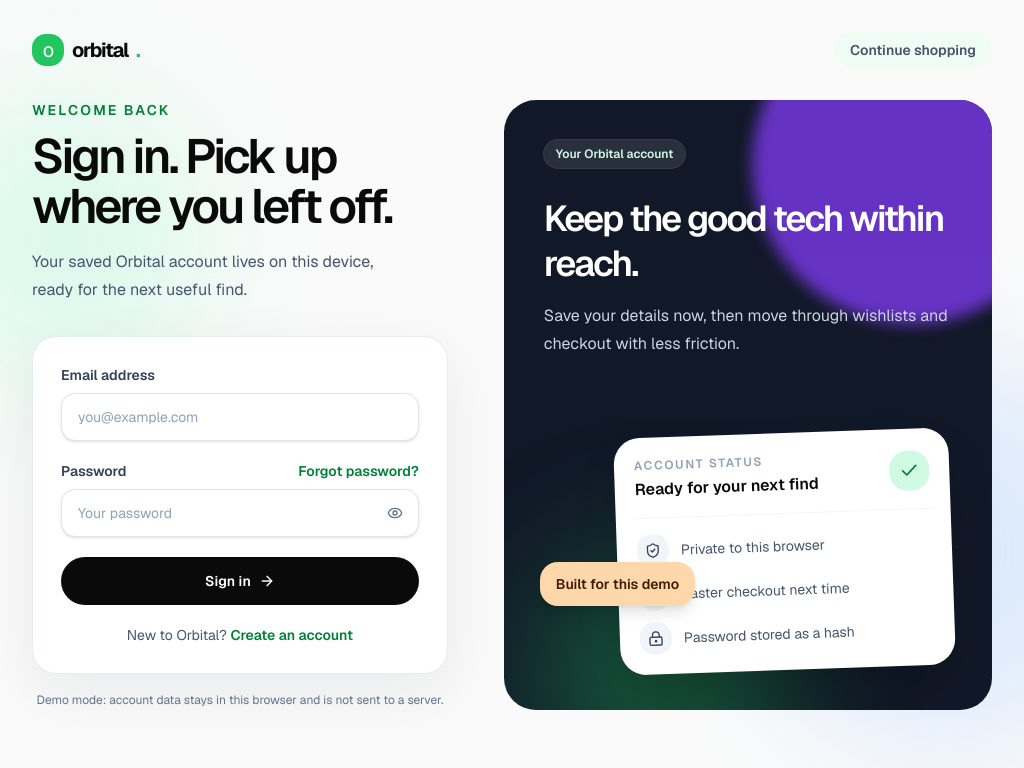
Test: authentication pages › validates login fields before checking the local account
The width and height of the screenshot is (1024, 768).
What coordinates should you click on to do the following:
click the button "Sign in"
I would click on:
 (240, 581)
Its box is [61, 557, 419, 605].
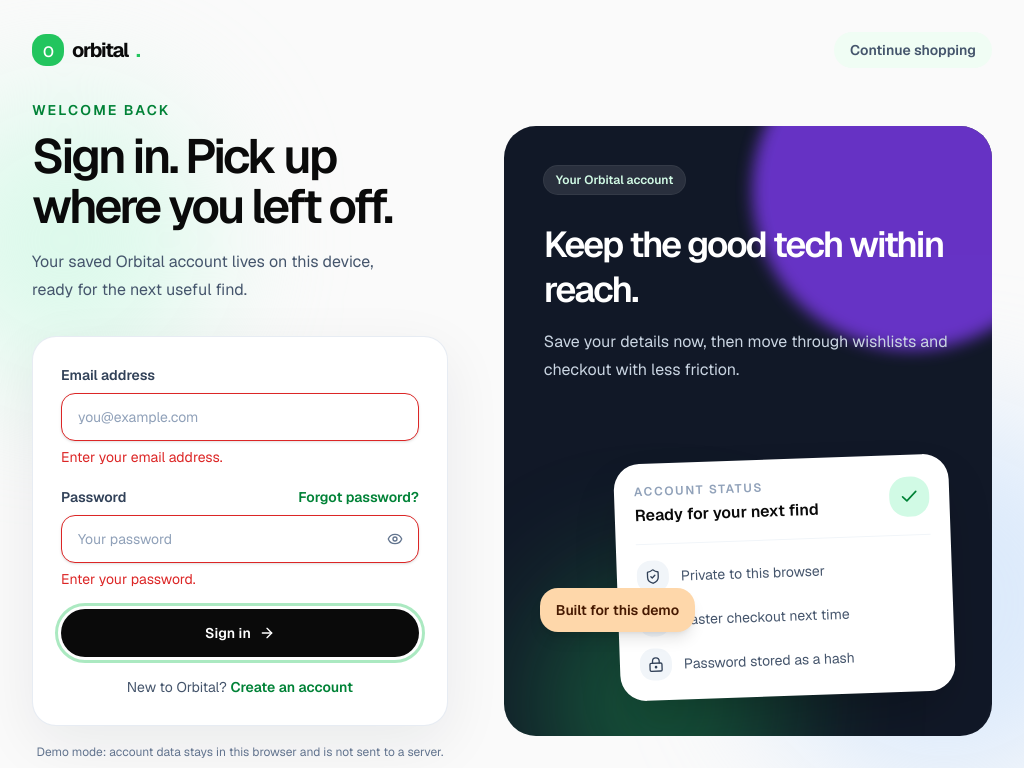
expect the text "Enter your email address." is shown: met, box [61, 448, 223, 466]
expect the text "Enter your password." is shown: met, box [61, 570, 196, 588]
